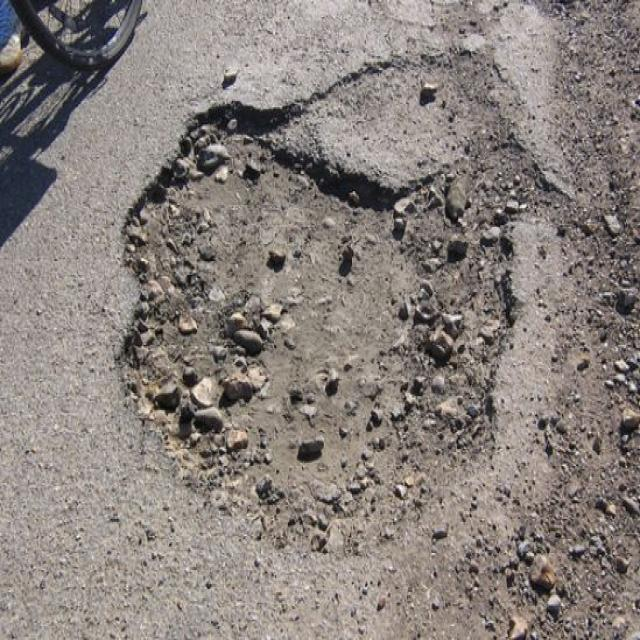pothole: (105, 79, 533, 553)
